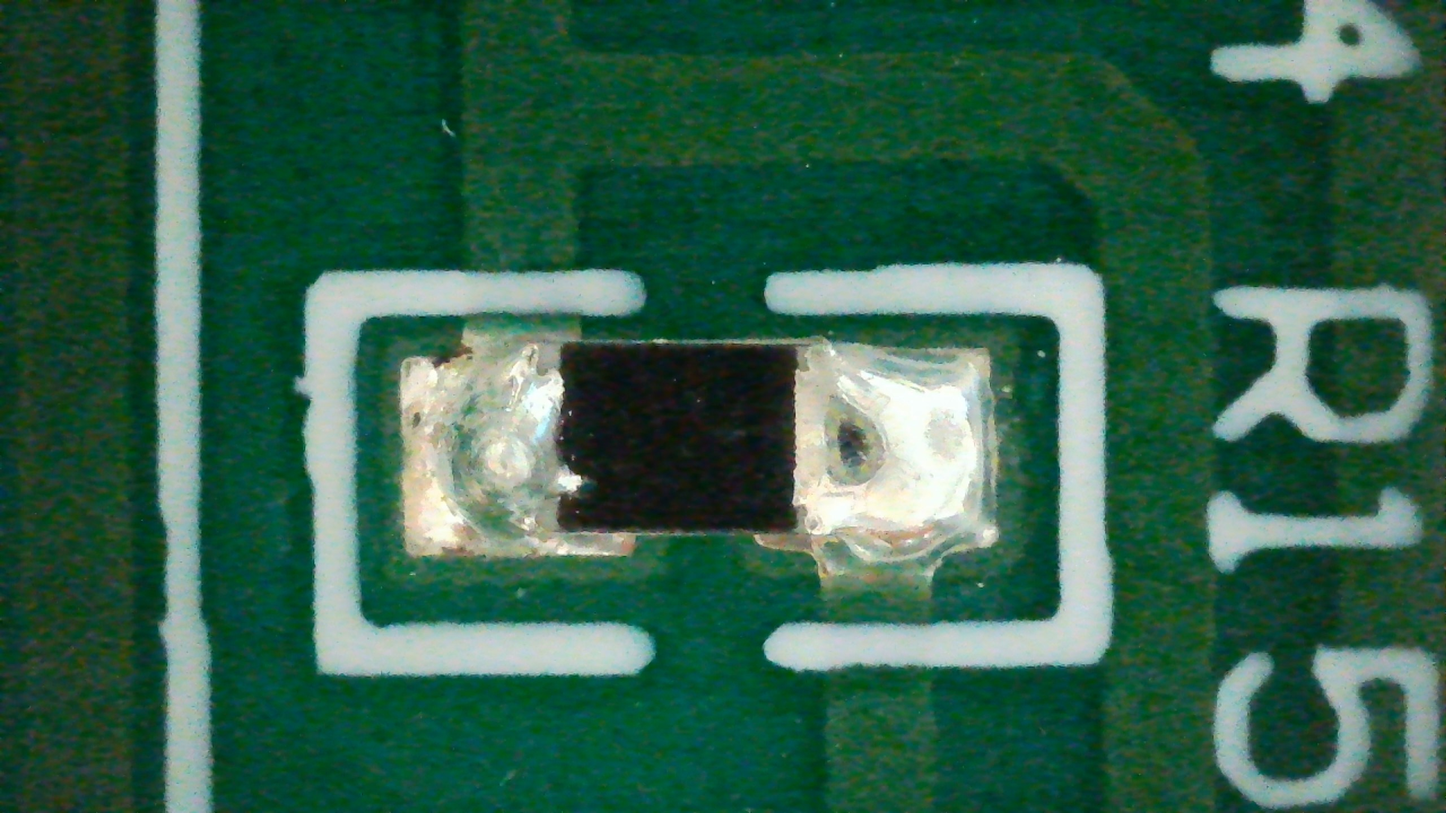OK: (402, 328, 999, 578)
